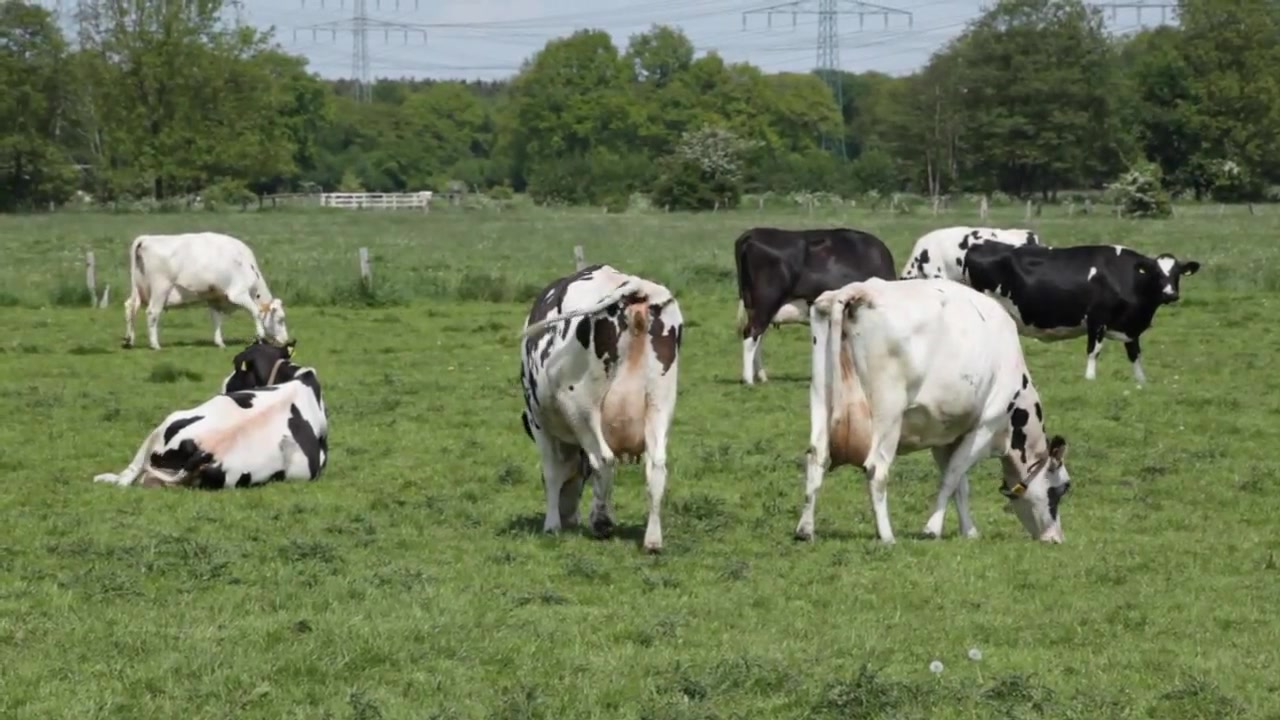cow: (514, 259, 687, 551)
